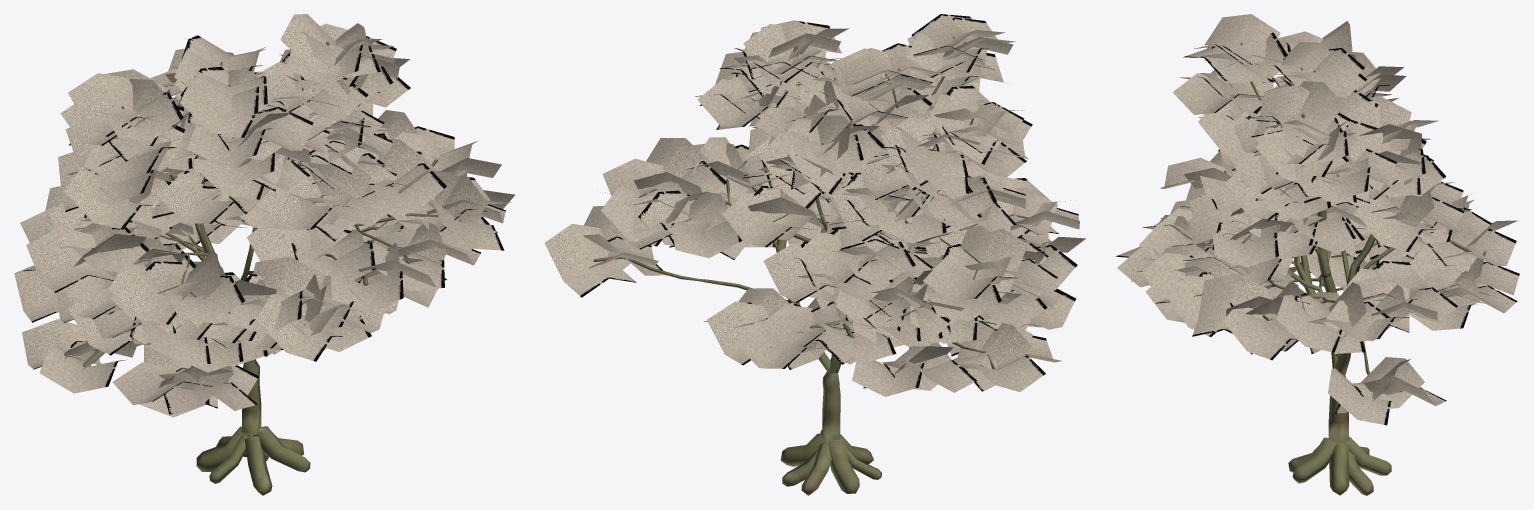
The model's file is tree3.glb.
3 views of the same model, side by side, from view 1: azimuth 30°, elevation 25°; view 2: azimuth 150°, elevation 25°; view 3: azimuth 270°, elevation 25° (orthographic). The views are drawn at different scales.
Parts seen in each view (by area): view 1: Sonnerat; view 2: Sonnerat; view 3: Sonnerat.
Part boxes in pixels (bbox=[...]): Sonnerat: bbox=[14, 14, 515, 495]; Sonnerat: bbox=[544, 14, 1085, 495]; Sonnerat: bbox=[1115, 14, 1519, 495].
Size of the model in its own units: 11.79 by 10.71 by 9.32.
Materials: 1 (1 with a texture image).
